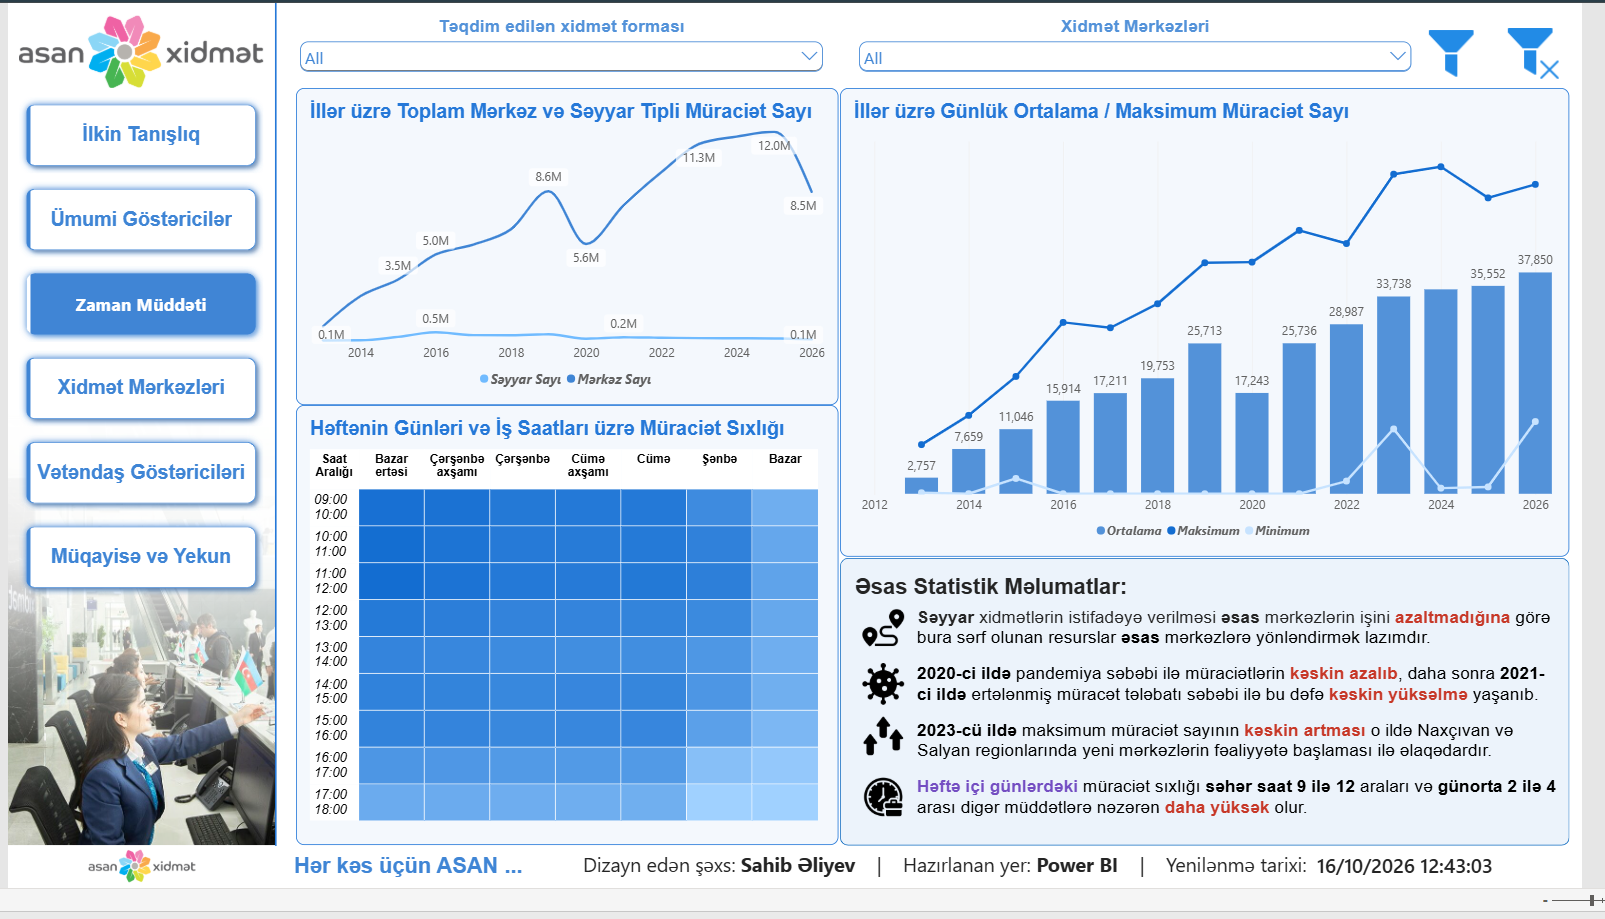

Layout of this report page (visuals, bound fields, positions):
{"tool":"powerbi","page":{"name":"Zaman Müddəti","canvas":[1920,1080],"ordinal":2},"visuals":[{"type":"shape","box":[1015.2,676.8,890.4,351.1],"z":0},{"type":"image","box":[0,396,326.1,632.6],"z":1000},{"type":"image","box":[0,204,326,738],"z":2000},{"type":"shape","box":[315.7,0,21.4,1028.6],"z":3000},{"type":"image","box":[14,8,298,102],"z":4000},{"type":"image","box":[58.6,1031.4,210,42.9],"z":5000},{"type":"lineStackedColumnComboChart","title":"İllər üzrə Günlük Ortalama / Maksimum Müraciət Sayı","fields":{"Category":["Dim_Date.date.Variation.Date Hierarchy.Year"],"Y":["Ölçülər.Günlük Ortalama"],"Y2":["Ölçülər.Maksimum Müraciət","Ölçülər.Minimum"]},"box":[1015.2,103.2,890.4,571.9],"z":6000},{"type":"textbox","box":[1109.3,736.5,783.6,276.9],"z":7000},{"type":"lineChart","title":"İllər üzrə Toplam Mərkəz və Səyyar Tipli Müraciət Sayı","fields":{"Category":["Dim_Date.date.Variation.Date Hierarchy.Year"],"Y":["Ölçülər.Səyyar Müraciətlər","Ölçülər.Mərkəz Sayı"]},"box":[351.1,103.2,662.3,387.3],"z":8000},{"type":"textbox","box":[1033.3,696.7,378,32],"z":9000},{"type":"pivotTable","title":"Həftənin Günləri və İş Saatları üzrə Müraciət Sıxlığı","fields":{"Columns":["Dim_Gunler.Həftənin Günü"],"Rows":["Fact_Daily_Statistics.Saat Aralığı"],"Values":["Avg(Fact_Daily_Statistics.percentage)"]},"box":[351.1,490.4,662.3,537.5],"z":10000},{"type":"slicer","title":"Təqdim edilən xidmət forması","fields":{"Values":["Fact_Main.service_type"]},"box":[352,16,648,84],"z":11000},{"type":"slicer","title":"Xidmət Mərkəzləri","fields":{"Values":["Dim_Branch.branch_name"]},"box":[1034,16,684,84],"z":12000},{"type":"pageNavigator","box":[13,114.7,298.7,610.3],"z":13000},{"type":"image","box":[1033.3,736.5,68.8,51.2],"z":14000},{"type":"image","box":[1033.3,805.3,68.8,50.7],"z":15000},{"type":"image","box":[1033.3,868.6,68.8,50.7],"z":16000},{"type":"image","box":[1033.3,942.8,68.8,51.2],"z":17000},{"type":"textbox","box":[348.6,1037.1,286,32],"z":18000},{"type":"image","box":[1718,30,86,62],"z":19000},{"type":"image","box":[1818,30,86,62],"z":20000},{"type":"textbox","box":[701.2,1034.5,900.3,36.8],"z":21000},{"type":"cardVisual","fields":{"Data":["Min(Yenilənmə Tarixi.Yenilənmə Tarixi)"]},"box":[1582,1036.6,320.3,32.5],"z":22000}]}

Visuals, with their boxes on the page's 1920x1080 design canvas (x1, y1, x2, y2). These are canvas units, not pixel positions in the 1605x919 screenshot, which may show the page scaled, cropped or inside an application window:
shape: region(1015, 677, 1906, 1028)
image: region(0, 396, 326, 1029)
image: region(0, 204, 326, 942)
shape: region(316, 0, 337, 1029)
image: region(14, 8, 312, 110)
image: region(59, 1031, 269, 1074)
"İllər üzrə Günlük Ortalama / Maksimum Müraciət Sayı" lineStackedColumnComboChart: region(1015, 103, 1906, 675)
textbox: region(1109, 736, 1893, 1013)
"İllər üzrə Toplam Mərkəz və Səyyar Tipli Müraciət Sayı" lineChart: region(351, 103, 1013, 490)
textbox: region(1033, 697, 1411, 729)
"Həftənin Günləri və İş Saatları üzrə Müraciət Sıxlığı" pivotTable: region(351, 490, 1013, 1028)
"Təqdim edilən xidmət forması" slicer: region(352, 16, 1000, 100)
"Xidmət Mərkəzləri" slicer: region(1034, 16, 1718, 100)
pageNavigator: region(13, 115, 312, 725)
image: region(1033, 736, 1102, 788)
image: region(1033, 805, 1102, 856)
image: region(1033, 869, 1102, 919)
image: region(1033, 943, 1102, 994)
textbox: region(349, 1037, 635, 1069)
image: region(1718, 30, 1804, 92)
image: region(1818, 30, 1904, 92)
textbox: region(701, 1034, 1602, 1071)
cardVisual - Min(Yenilənmə Tarixi.Yenilənmə Tarixi): region(1582, 1037, 1902, 1069)
